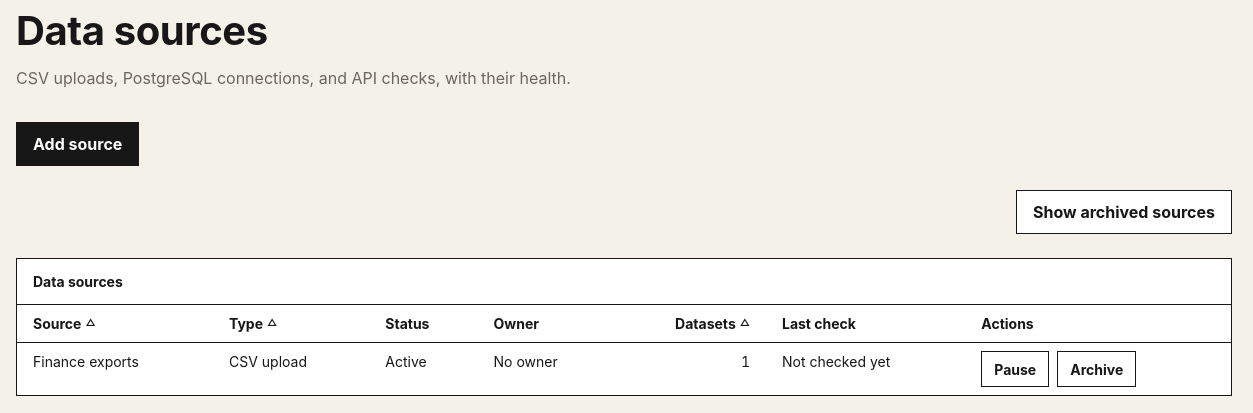
Scenario: Source actions › shows archived sources on request, without actions
The image size is (1253, 413).
Click the button "Show archived sources".
click(1124, 212)  # box [1016,190,1232,234]
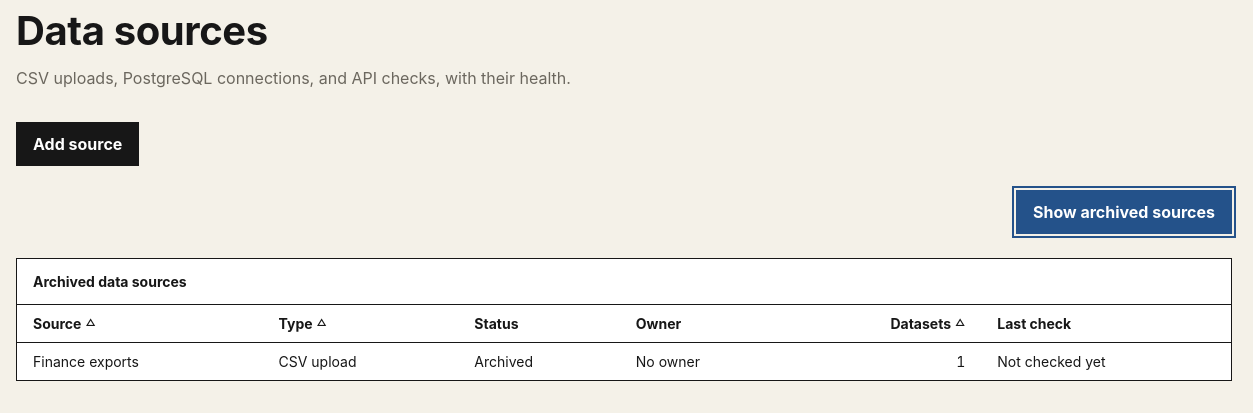
Now the text "Archived" is shown, box [458,342,620,380]
